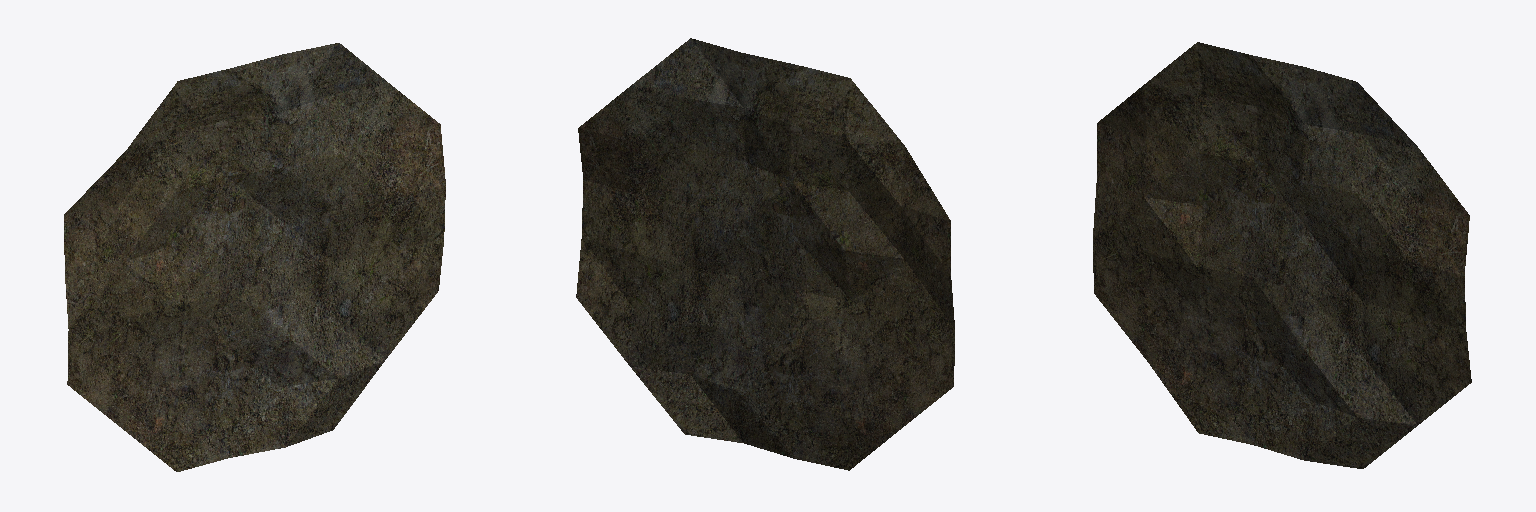
3 renders of one model, left to right at view 1: azimuth 30°, elevation 25°; view 2: azimuth 150°, elevation 25°; view 3: azimuth 330°, elevation 25°, orthographic.
Parts seen in each view (by area): view 1: Plane.024_Plane.026; view 2: Plane.024_Plane.026; view 3: Plane.024_Plane.026.
Part boxes in pixels (bbox=[...]): Plane.024_Plane.026: bbox=[64, 43, 445, 471]; Plane.024_Plane.026: bbox=[576, 38, 954, 470]; Plane.024_Plane.026: bbox=[1093, 42, 1471, 468].
Size of the model in its own units: 7168 by 7168 by 299.
1 materials, 1 textured.